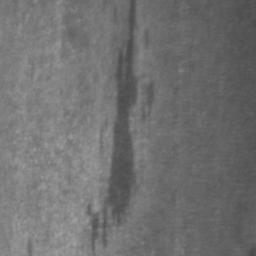Inclusion: (105, 0, 138, 220)
